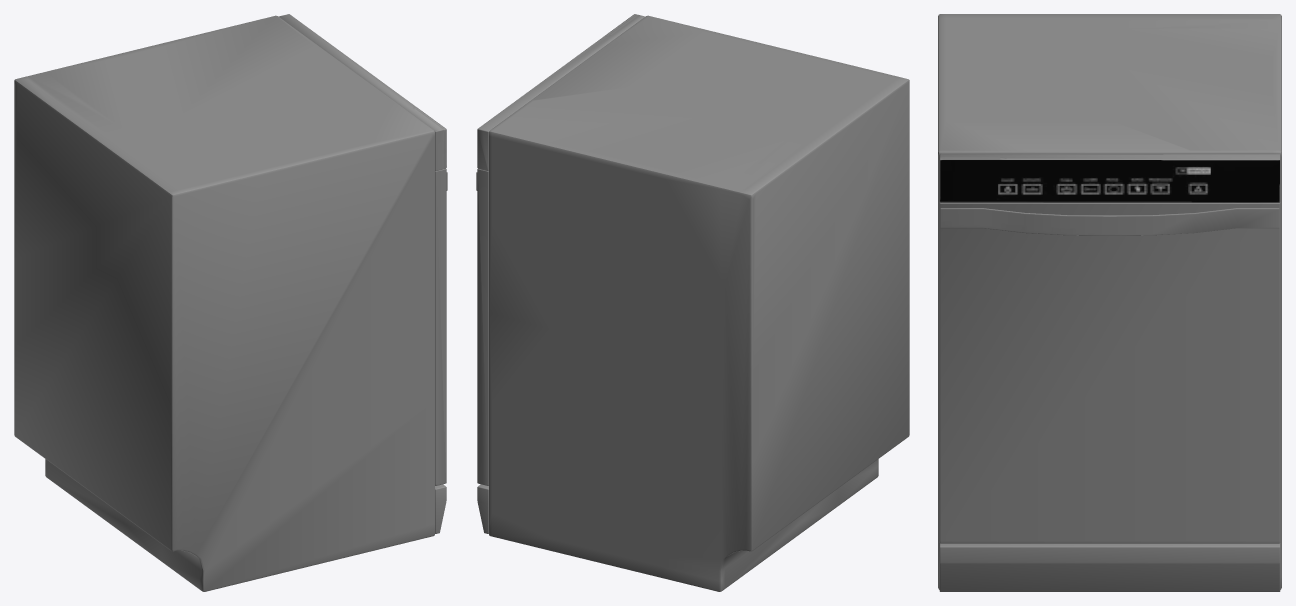
Rendered from dishwasher_2.glb.
3 views of the same model, side by side, from view 1: azimuth 30°, elevation 25°; view 2: azimuth 150°, elevation 25°; view 3: azimuth 270°, elevation 25° (orthographic). The views are drawn at different scales.
Parts seen in each view (by area): view 1: SM_Dishwasher; view 2: SM_Dishwasher; view 3: SM_Dishwasher.
Part boxes in pixels (<box>): SM_Dishwasher: <box>14,14,447,591</box>; SM_Dishwasher: <box>476,14,909,591</box>; SM_Dishwasher: <box>938,14,1281,591</box>.
Bounding box in the file's own units: 0.6339 × 0.845 × 0.6.
1 material, 1 textured.
